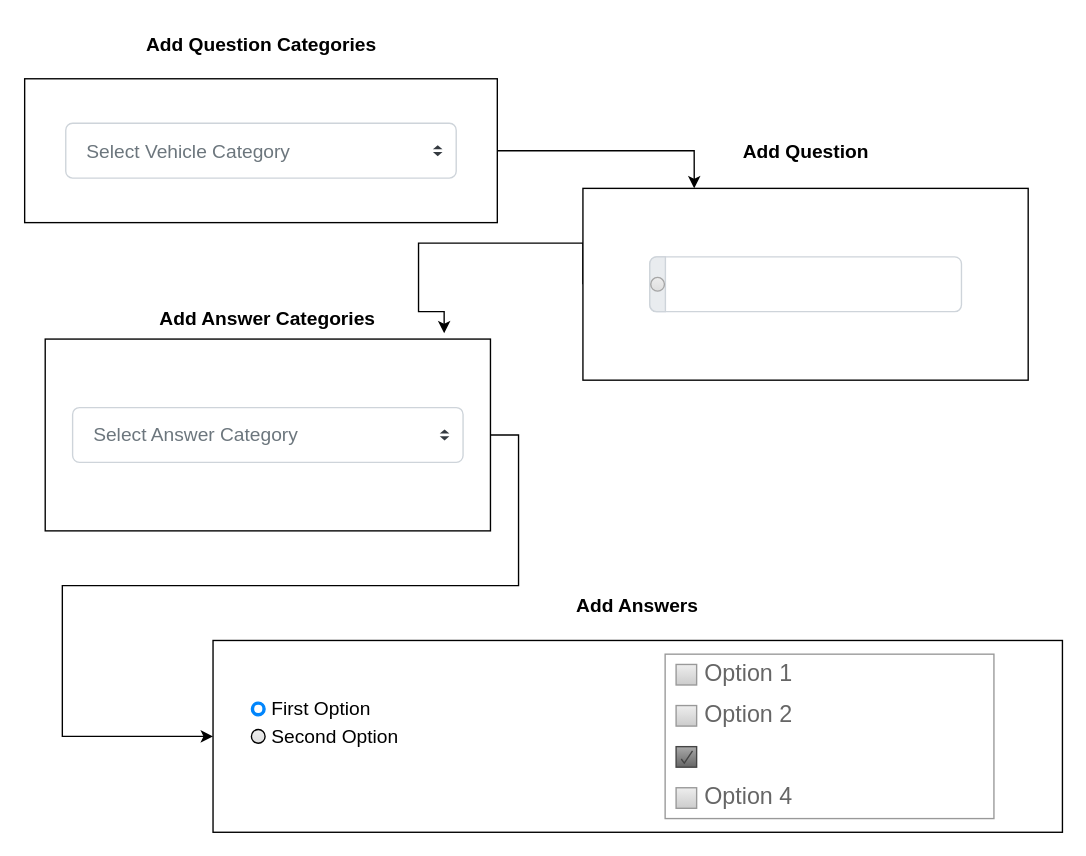
This 1086x856 diagram has some shape labels left out. The shapes that lost their labels are listed below. From the top down, each one's box as (x1, y1, x2, y2) in pixels, then its label:
(648, 256, 961, 312): Type Your Question Here
(675, 745, 697, 767): Option 3
